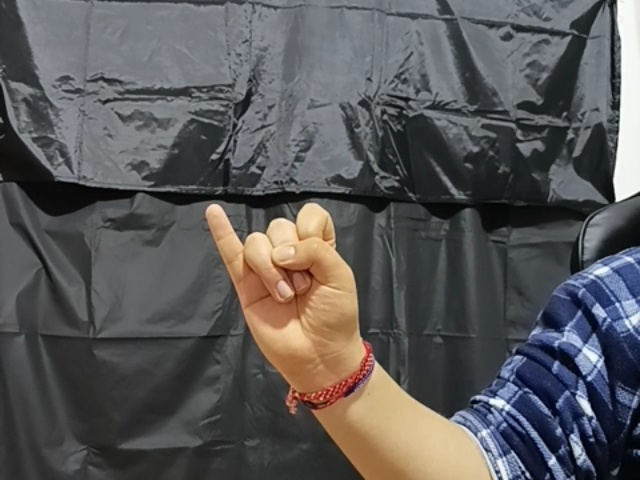I: (196, 197, 394, 378)
